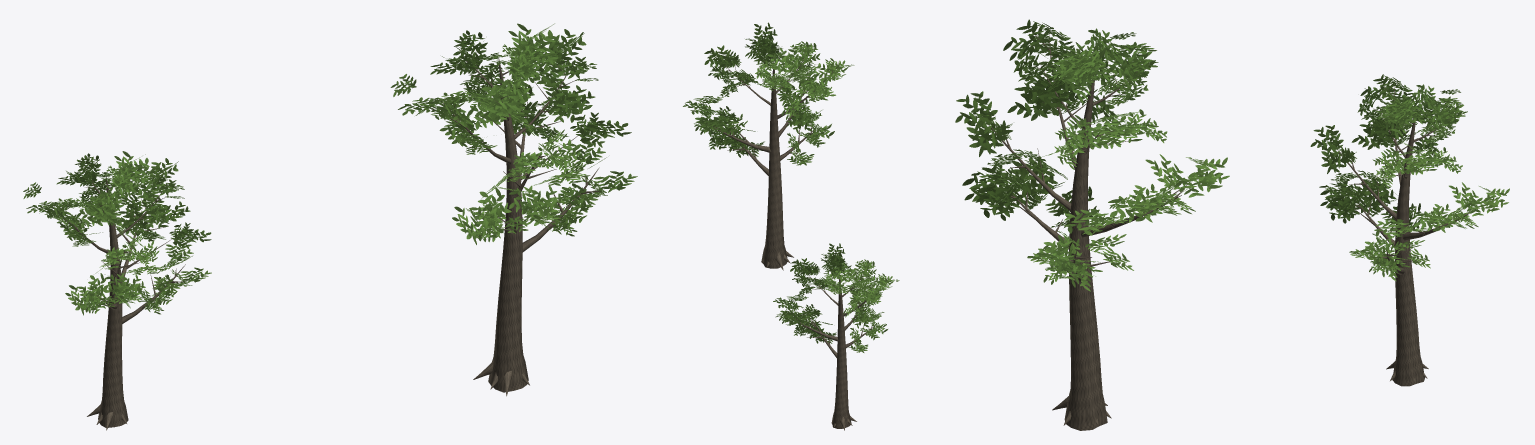
The model's file is Canopy_08_15.glb.
3 renders of one model, left to right at view 1: azimuth 30°, elevation 25°; view 2: azimuth 150°, elevation 25°; view 3: azimuth 270°, elevation 25°, orthographic. The views are drawn at different scales.
Parts seen in each view (by area): view 1: Canopy_08_15; view 2: Canopy_08_15; view 3: Canopy_08_15.
Part boxes in pixels (x1=…): Canopy_08_15: x1=23, y1=23, x2=637, y2=430; Canopy_08_15: x1=683, y1=22, x2=899, y2=430; Canopy_08_15: x1=955, y1=19, x2=1509, y2=430.
Bounding box in the file's own units: 24.3 × 22 × 23.35.
2 materials, 2 textured.
